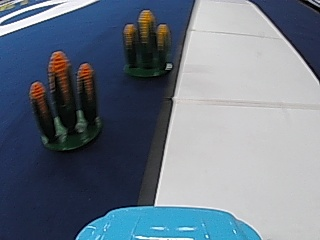corn: (32, 50, 101, 153), (121, 8, 174, 79)
